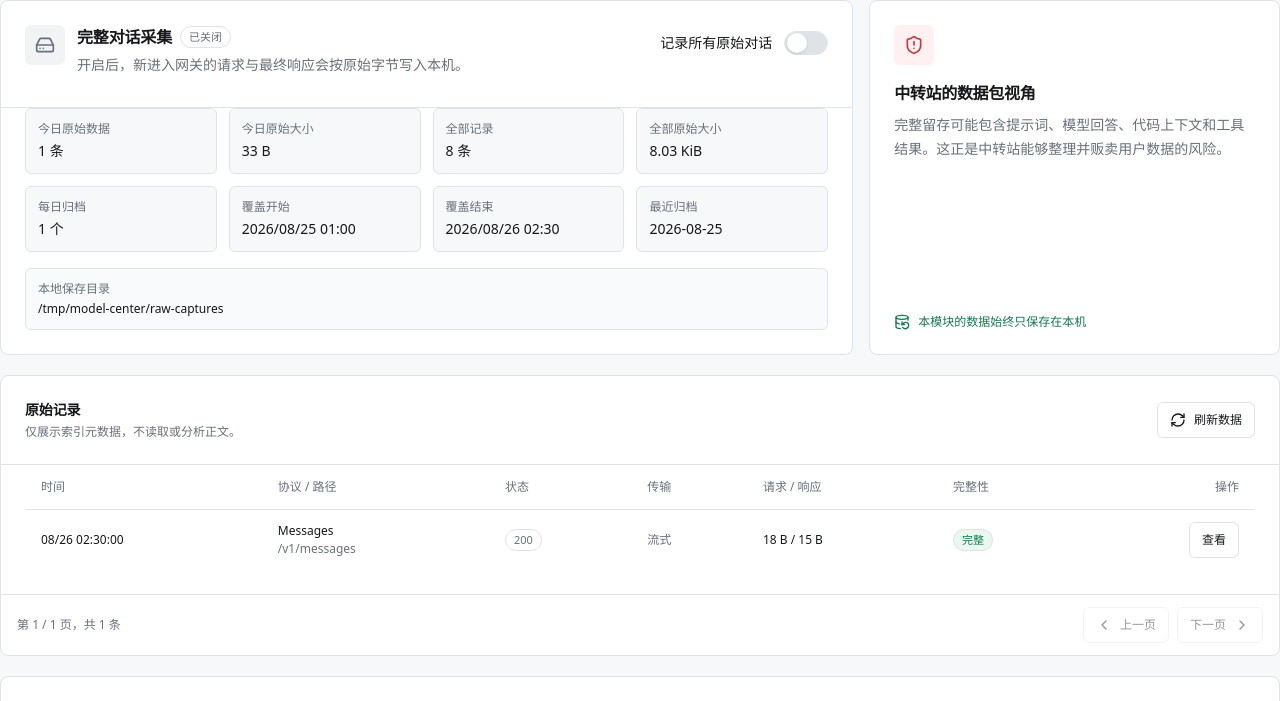
RawDataClient › uses fresh binary contentType from record detail instead of stale text metadata
The image size is (1280, 701).
Click the button "查看": point(1214, 540) x1=1189 y1=522 x2=1239 y2=558
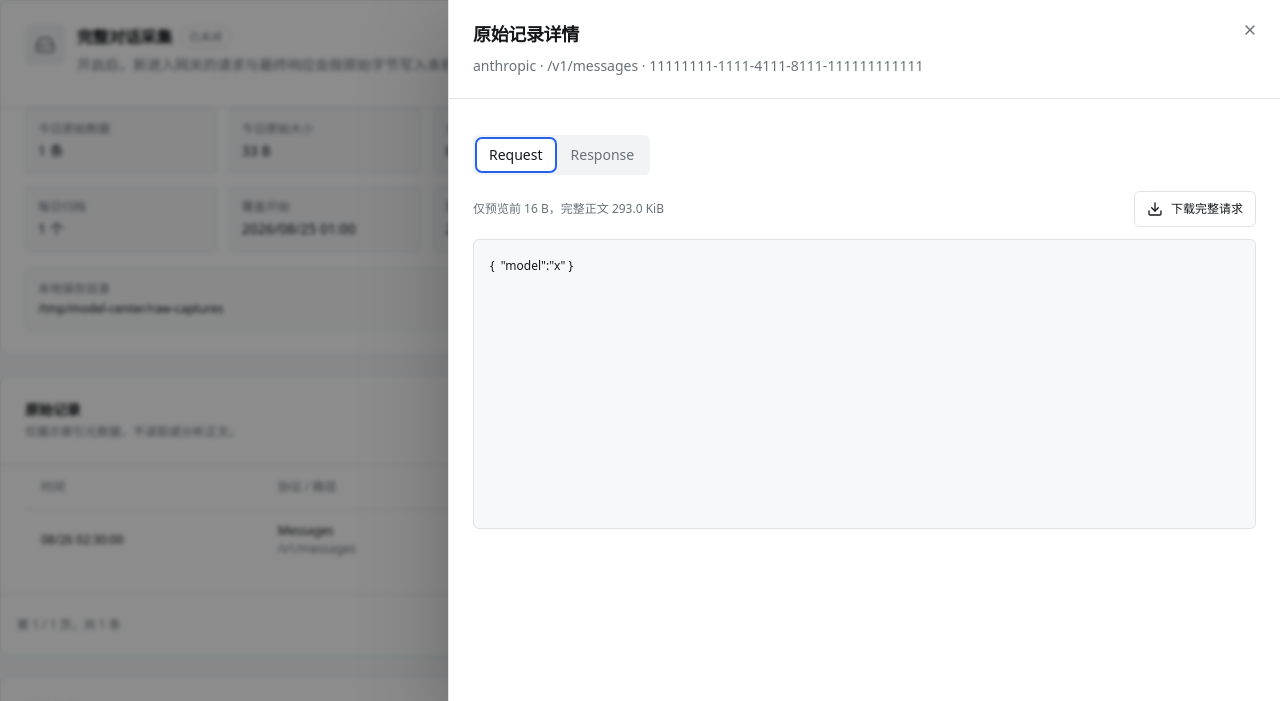
Click the tab "Response": point(602, 155) x1=558 y1=139 x2=646 y2=171
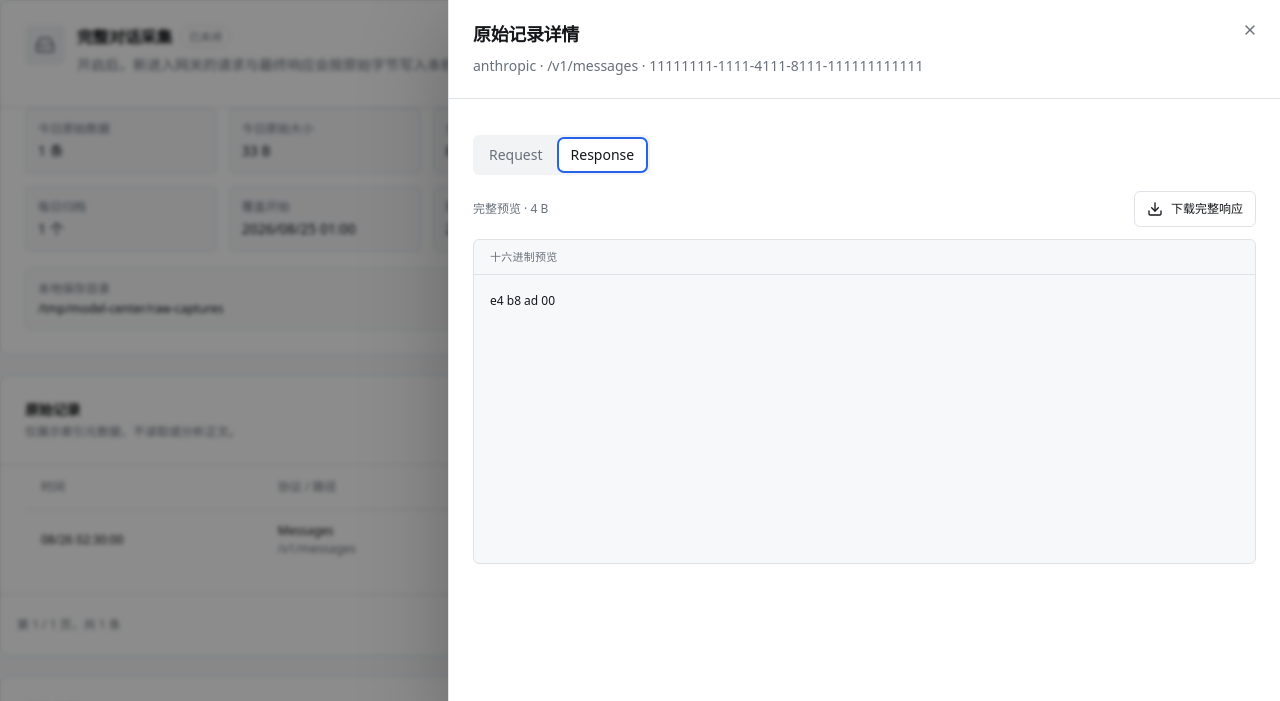
Check: the text "十六进制预览" is shown, box x1=474 y1=240 x2=1255 y2=275
Check: the text "e4 b8 ad 00" is shown, box x1=490 y1=292 x2=555 y2=309
Check: the text "完整预览 · 4 B" is shown, box x1=473 y1=201 x2=548 y2=217
